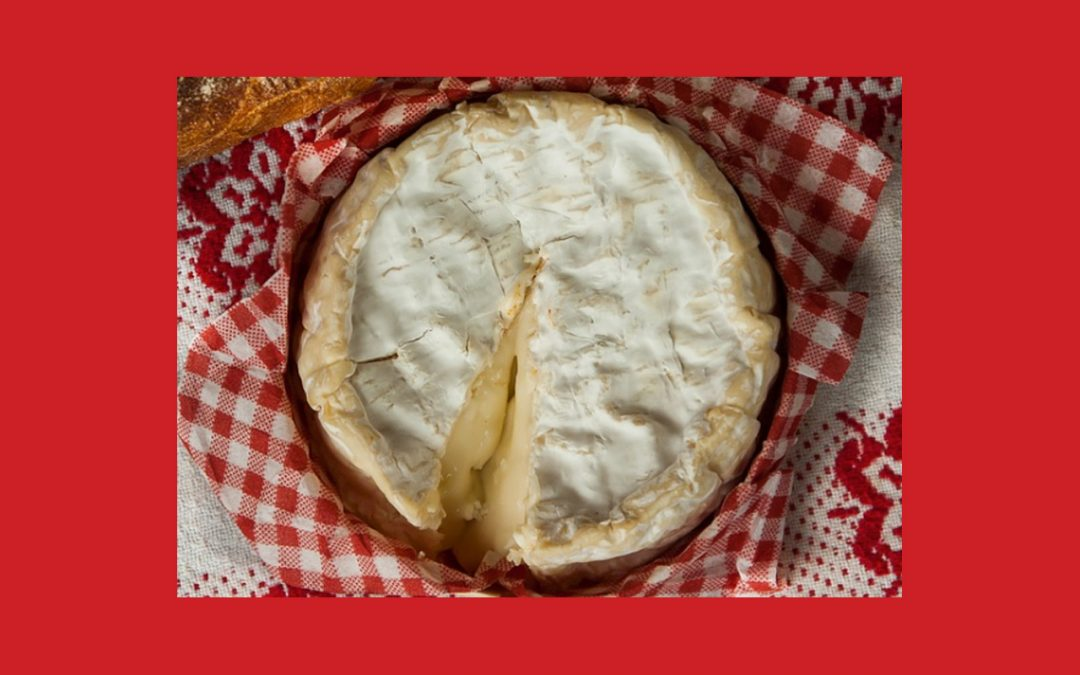camembert: (288, 90, 785, 586)
